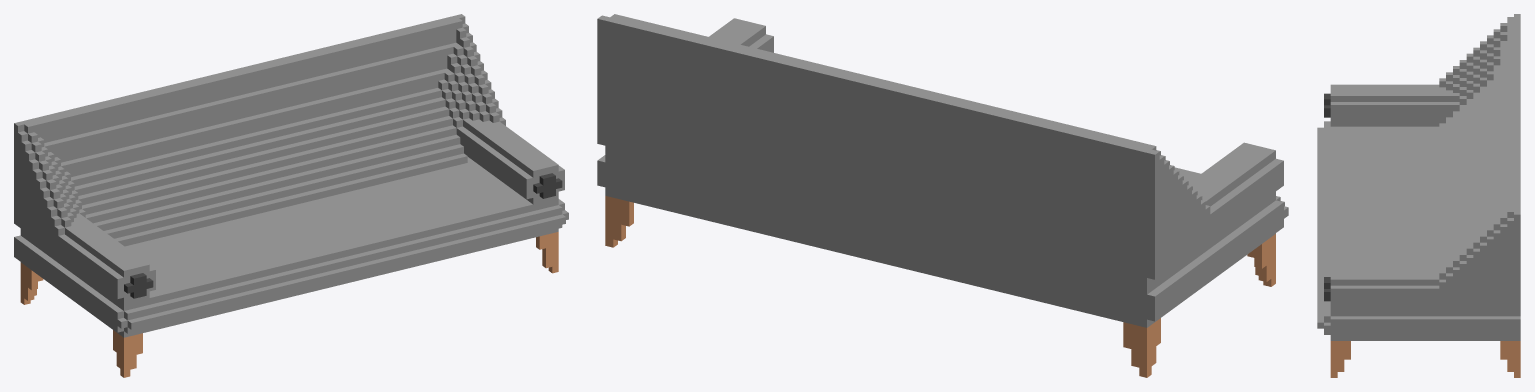
The model's file is Sofa.obj.
3 views of the same model, side by side, from view 1: azimuth 30°, elevation 25°; view 2: azimuth 150°, elevation 25°; view 3: azimuth 270°, elevation 25° (orthographic). The views are drawn at different scales.
Size of the model in its own units: 7 by 2.7 by 3.
Materials: 1 (1 with a texture image).
